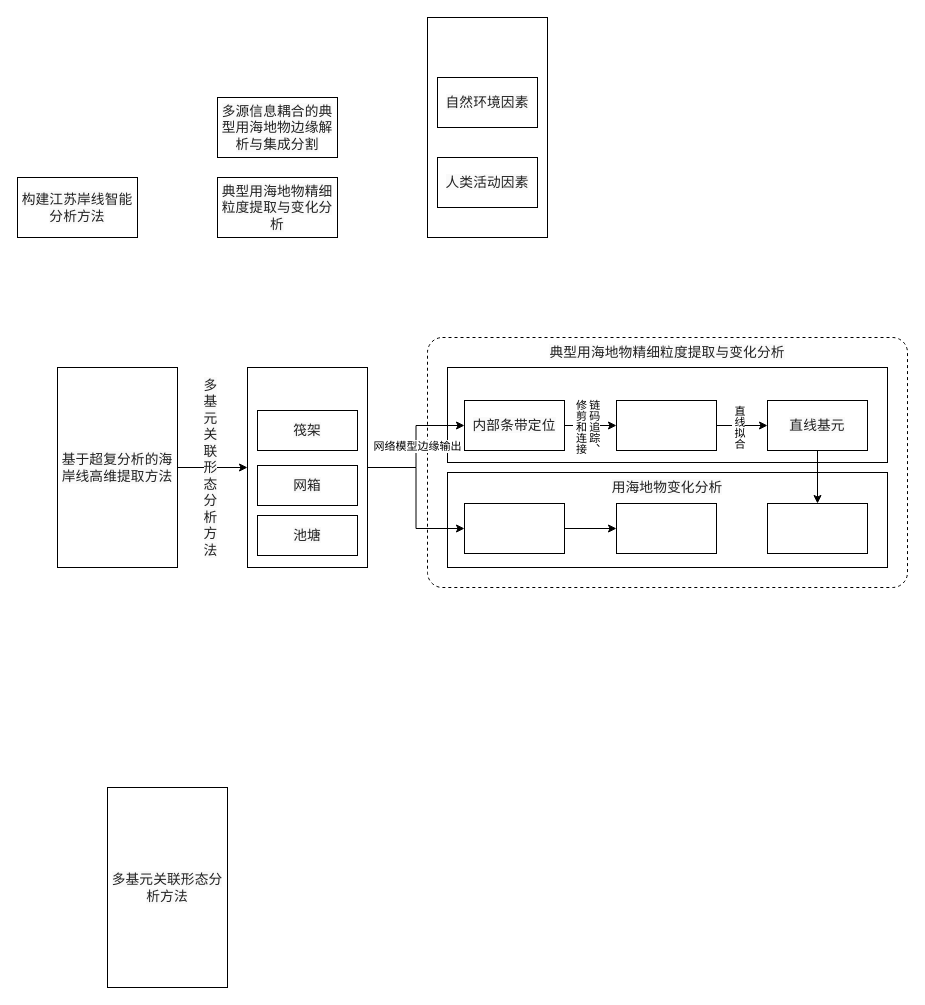
The diagram is 925 pixels wide and 1005 high, and some of its shapes have lost their labels. The shapes that lost their labels are listed below. From the top down, each one's box as (x1, y1, x2, y2) in pixels, then its label:
(426, 16, 548, 238): 海岸线变化的关键影响因子
(616, 400, 716, 450): 筏带提取
(446, 366, 888, 462): 内部亚结构的精细提取
(246, 366, 368, 568): 用海地物边缘解析与集成分割
(464, 502, 564, 554): 形态分析、时相光谱差异性分析
(616, 502, 716, 554): 内部光谱色调变化和差异
(766, 502, 868, 554): 形态变化分析
